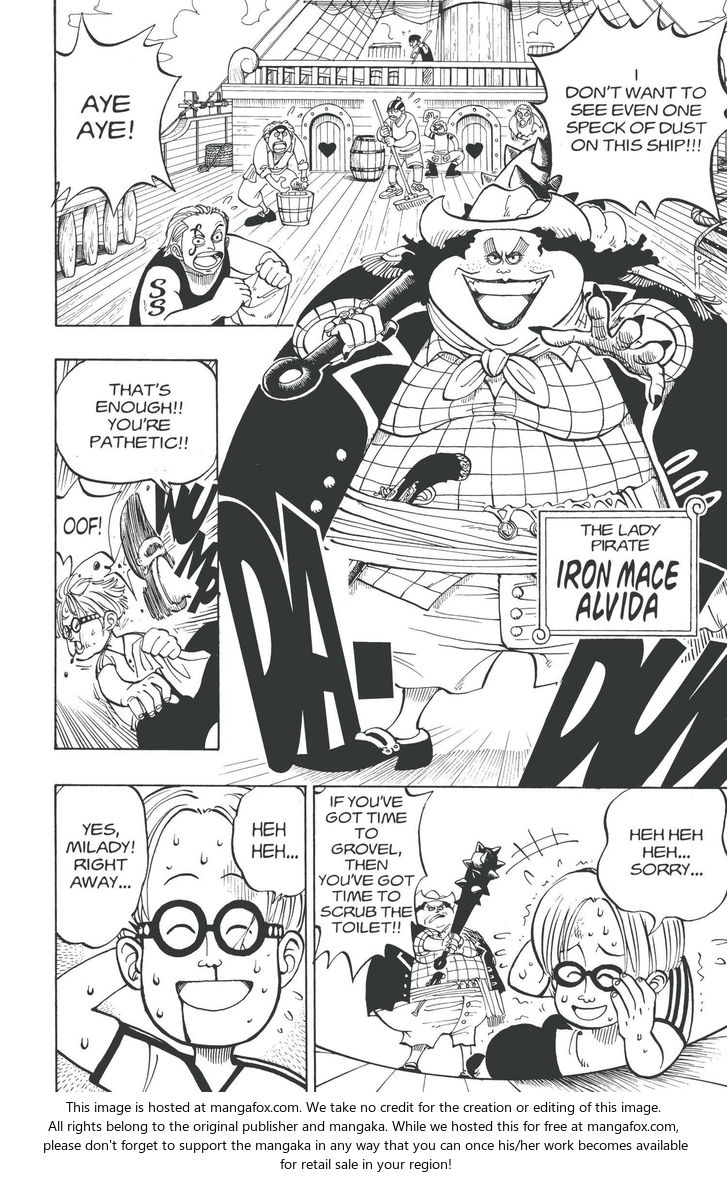bubble: (528, 3, 728, 224), (53, 12, 181, 217), (314, 785, 433, 982), (55, 359, 218, 494), (597, 788, 728, 934), (542, 513, 694, 635), (55, 785, 148, 948), (233, 786, 306, 903), (55, 478, 121, 577)
